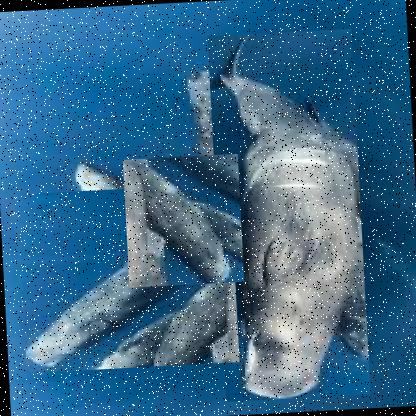sperm_whale: (207, 27, 371, 402), (13, 182, 240, 373), (122, 152, 245, 288)
